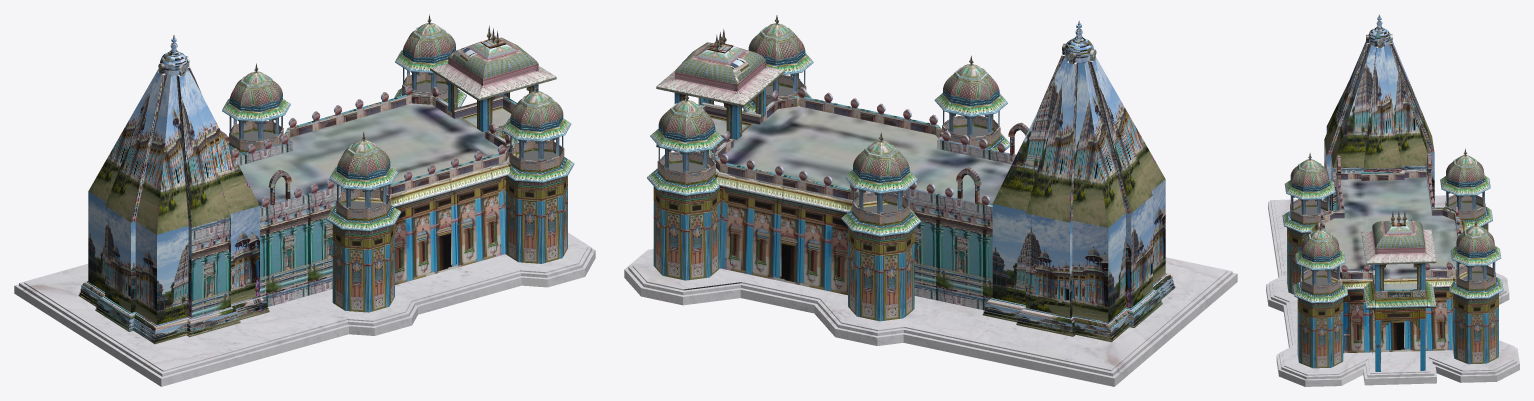
File: betul.fbx
3 renders of one model, left to right at view 1: azimuth 30°, elevation 25°; view 2: azimuth 150°, elevation 25°; view 3: azimuth 270°, elevation 25°, orthographic. The views are drawn at different scales.
Parts seen in each view (by area): view 1: FbxMesh (×26); view 2: FbxMesh (×25); view 3: FbxMesh (×37).
Boxes of the visible parts, left/top/right/bottom form: FbxMesh (×26): left=14, top=14, right=595, bottom=386; FbxMesh (×25): left=624, top=15, right=1237, bottom=386; FbxMesh (×37): left=1266, top=14, right=1519, bottom=386.
Size of the model in its own units: 44.03 by 25.11 by 25.55.
Materials: 18 (15 with a texture image).
